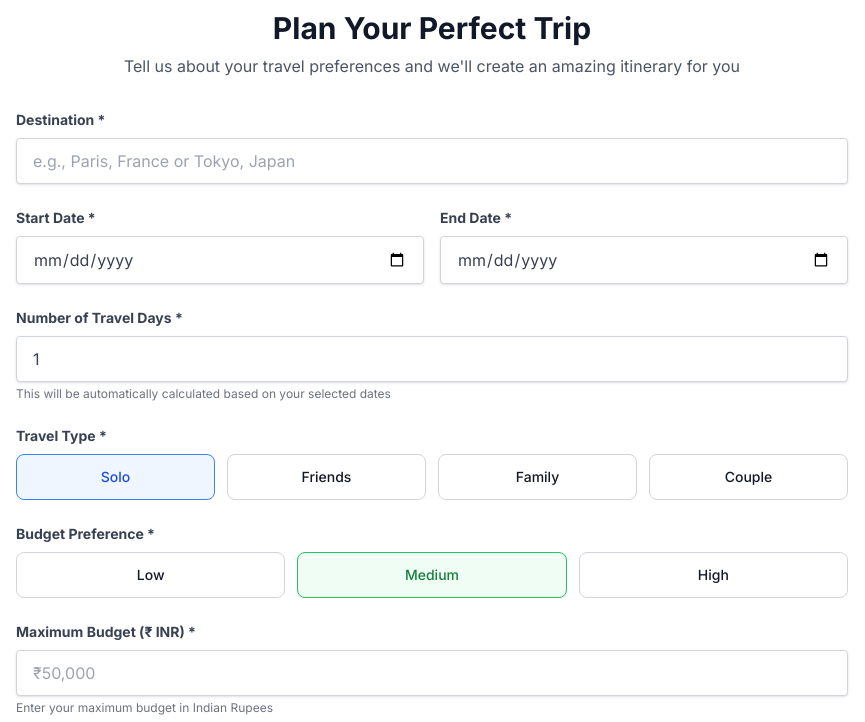
Trip Planning Flow Integration Tests › should format budget input with Indian currency
Type numeric value
Type "50000" into the field labelled "Maximum Budget (₹ INR) *" at (432, 673), box top-left (16, 650), bottom-right (848, 696)
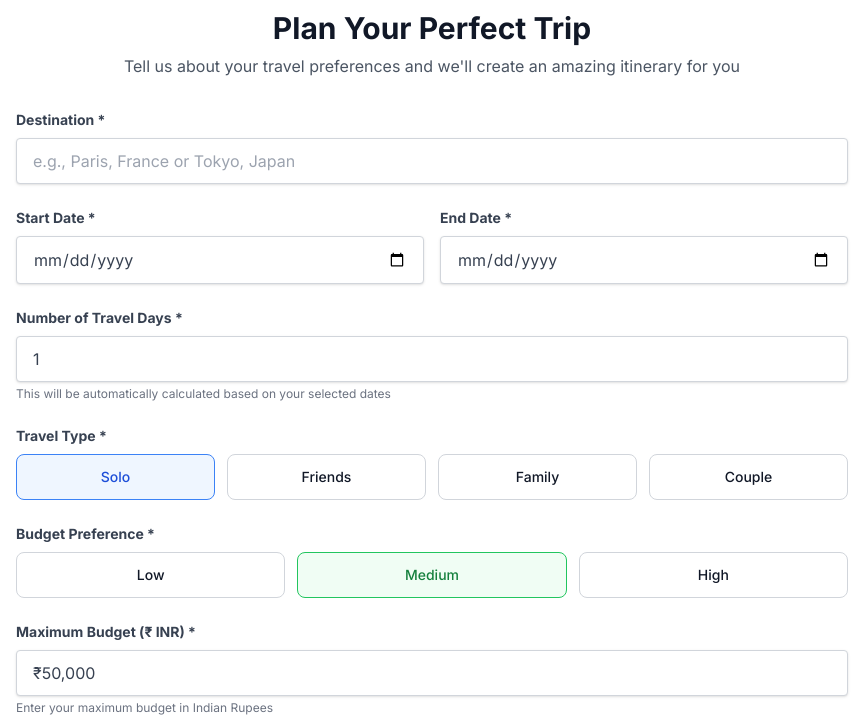
Check: the field labelled "Maximum Budget (₹ INR) *" holds "₹50,000", box top-left (16, 650), bottom-right (848, 696)
